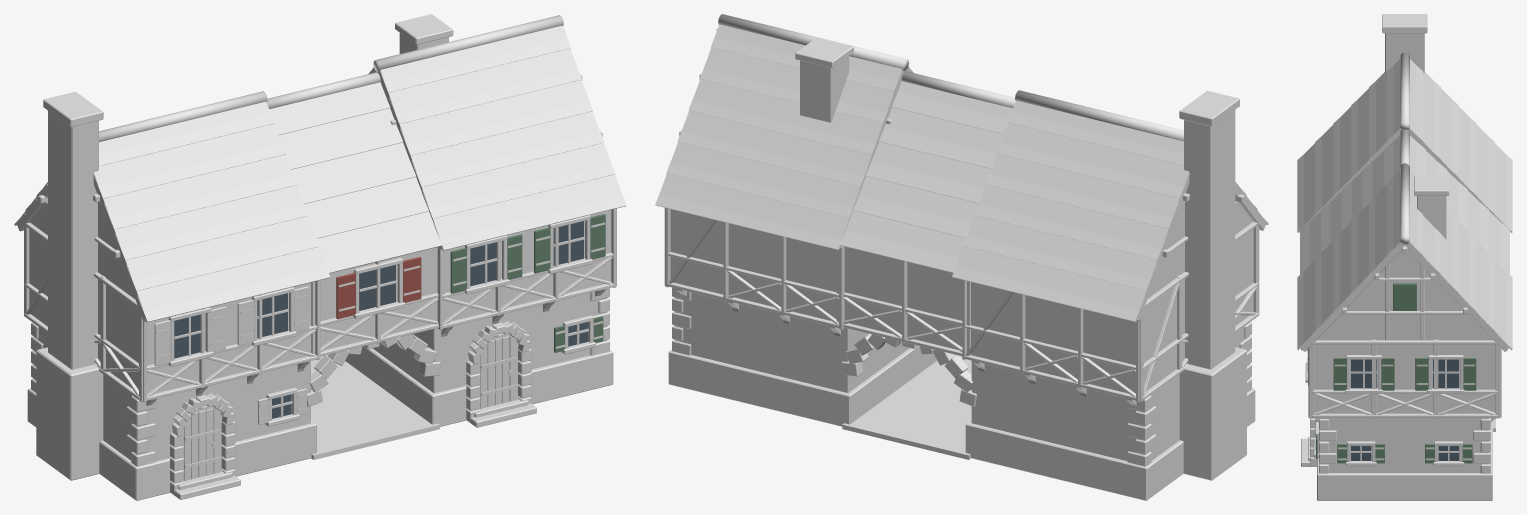
The model's file is col_20_collees_passage_voute.fbx.
3 renders of one model, left to right at view 1: azimuth 30°, elevation 25°; view 2: azimuth 150°, elevation 25°; view 3: azimuth 270°, elevation 25°, orthographic. The views are drawn at different scales.
Parts seen in each view (by area): view 1: col_20_collees_passage_voute_LOD0; view 2: col_20_collees_passage_voute_LOD0; view 3: col_20_collees_passage_voute_LOD0.
Boxes of the visible parts, box(x1,y1,x2,y2) form: col_20_collees_passage_voute_LOD0: box(14, 14, 626, 500); col_20_collees_passage_voute_LOD0: box(655, 14, 1268, 500); col_20_collees_passage_voute_LOD0: box(1297, 14, 1512, 500).
Size of what is drawn, in the model's own units: 14.14 by 9.48 by 6.39.
